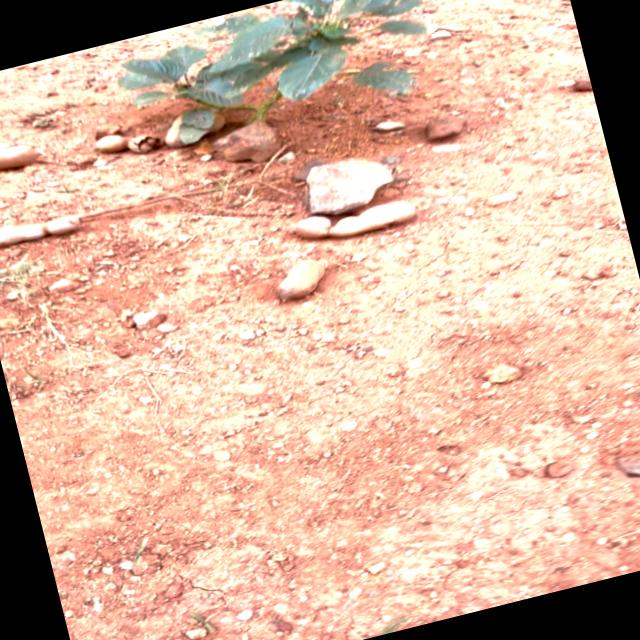tamarind: (292, 188, 428, 252), (0, 202, 91, 259), (267, 252, 342, 308), (91, 122, 163, 166), (0, 128, 47, 183)
